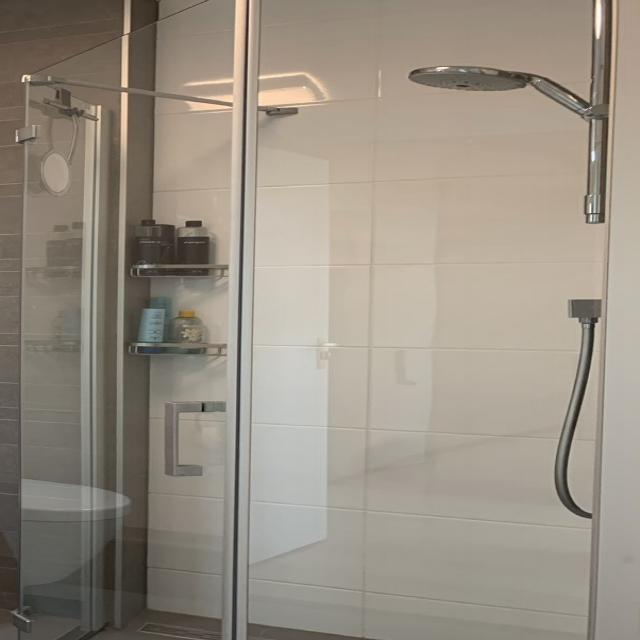douche: (205, 0, 640, 640)
toilet: (11, 474, 130, 594)
